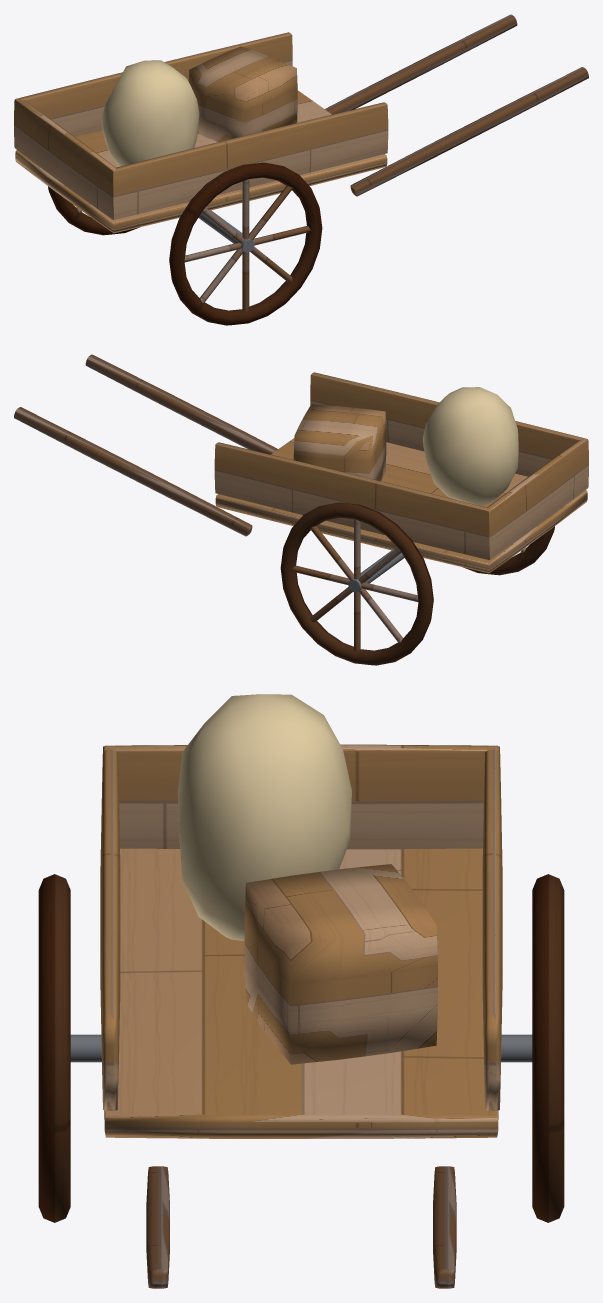
File: prop_cart.glb
3 renders of one model, top to bottom at view 1: azimuth 30°, elevation 25°; view 2: azimuth 150°, elevation 25°; view 3: azimuth 270°, elevation 25°, orthographic. The views are drawn at different scales.
Parts seen in each view (by area): view 1: prop_cart_wood, prop_cart; view 2: prop_cart_wood, prop_cart; view 3: prop_cart_wood, prop_cart.
Boxes of the visible parts, bbox=[...] form: prop_cart_wood: bbox=[14, 32, 388, 233]; prop_cart: bbox=[48, 14, 588, 325]; prop_cart_wood: bbox=[214, 372, 588, 573]; prop_cart: bbox=[14, 354, 554, 665]; prop_cart_wood: bbox=[100, 744, 502, 1138]; prop_cart: bbox=[38, 694, 564, 1288].
Bounding box in the file's own units: 2.84 × 1.28 × 1.32.
Materials: 4 (2 with a texture image).
